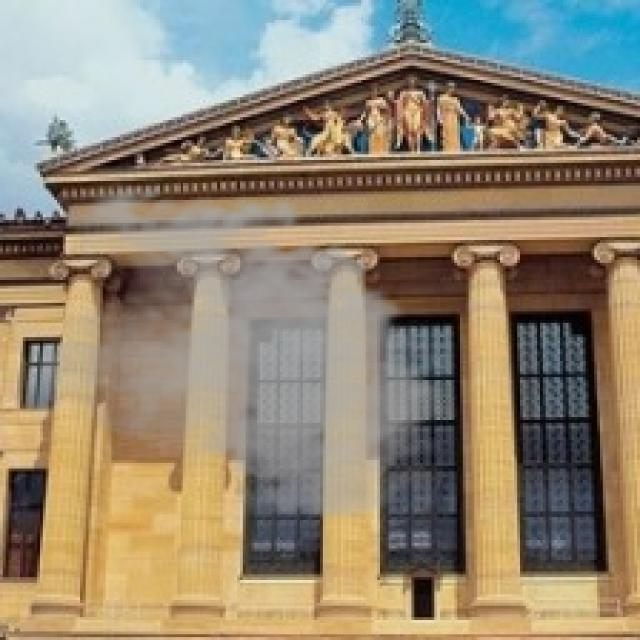Smoke: (37, 174, 460, 529)
